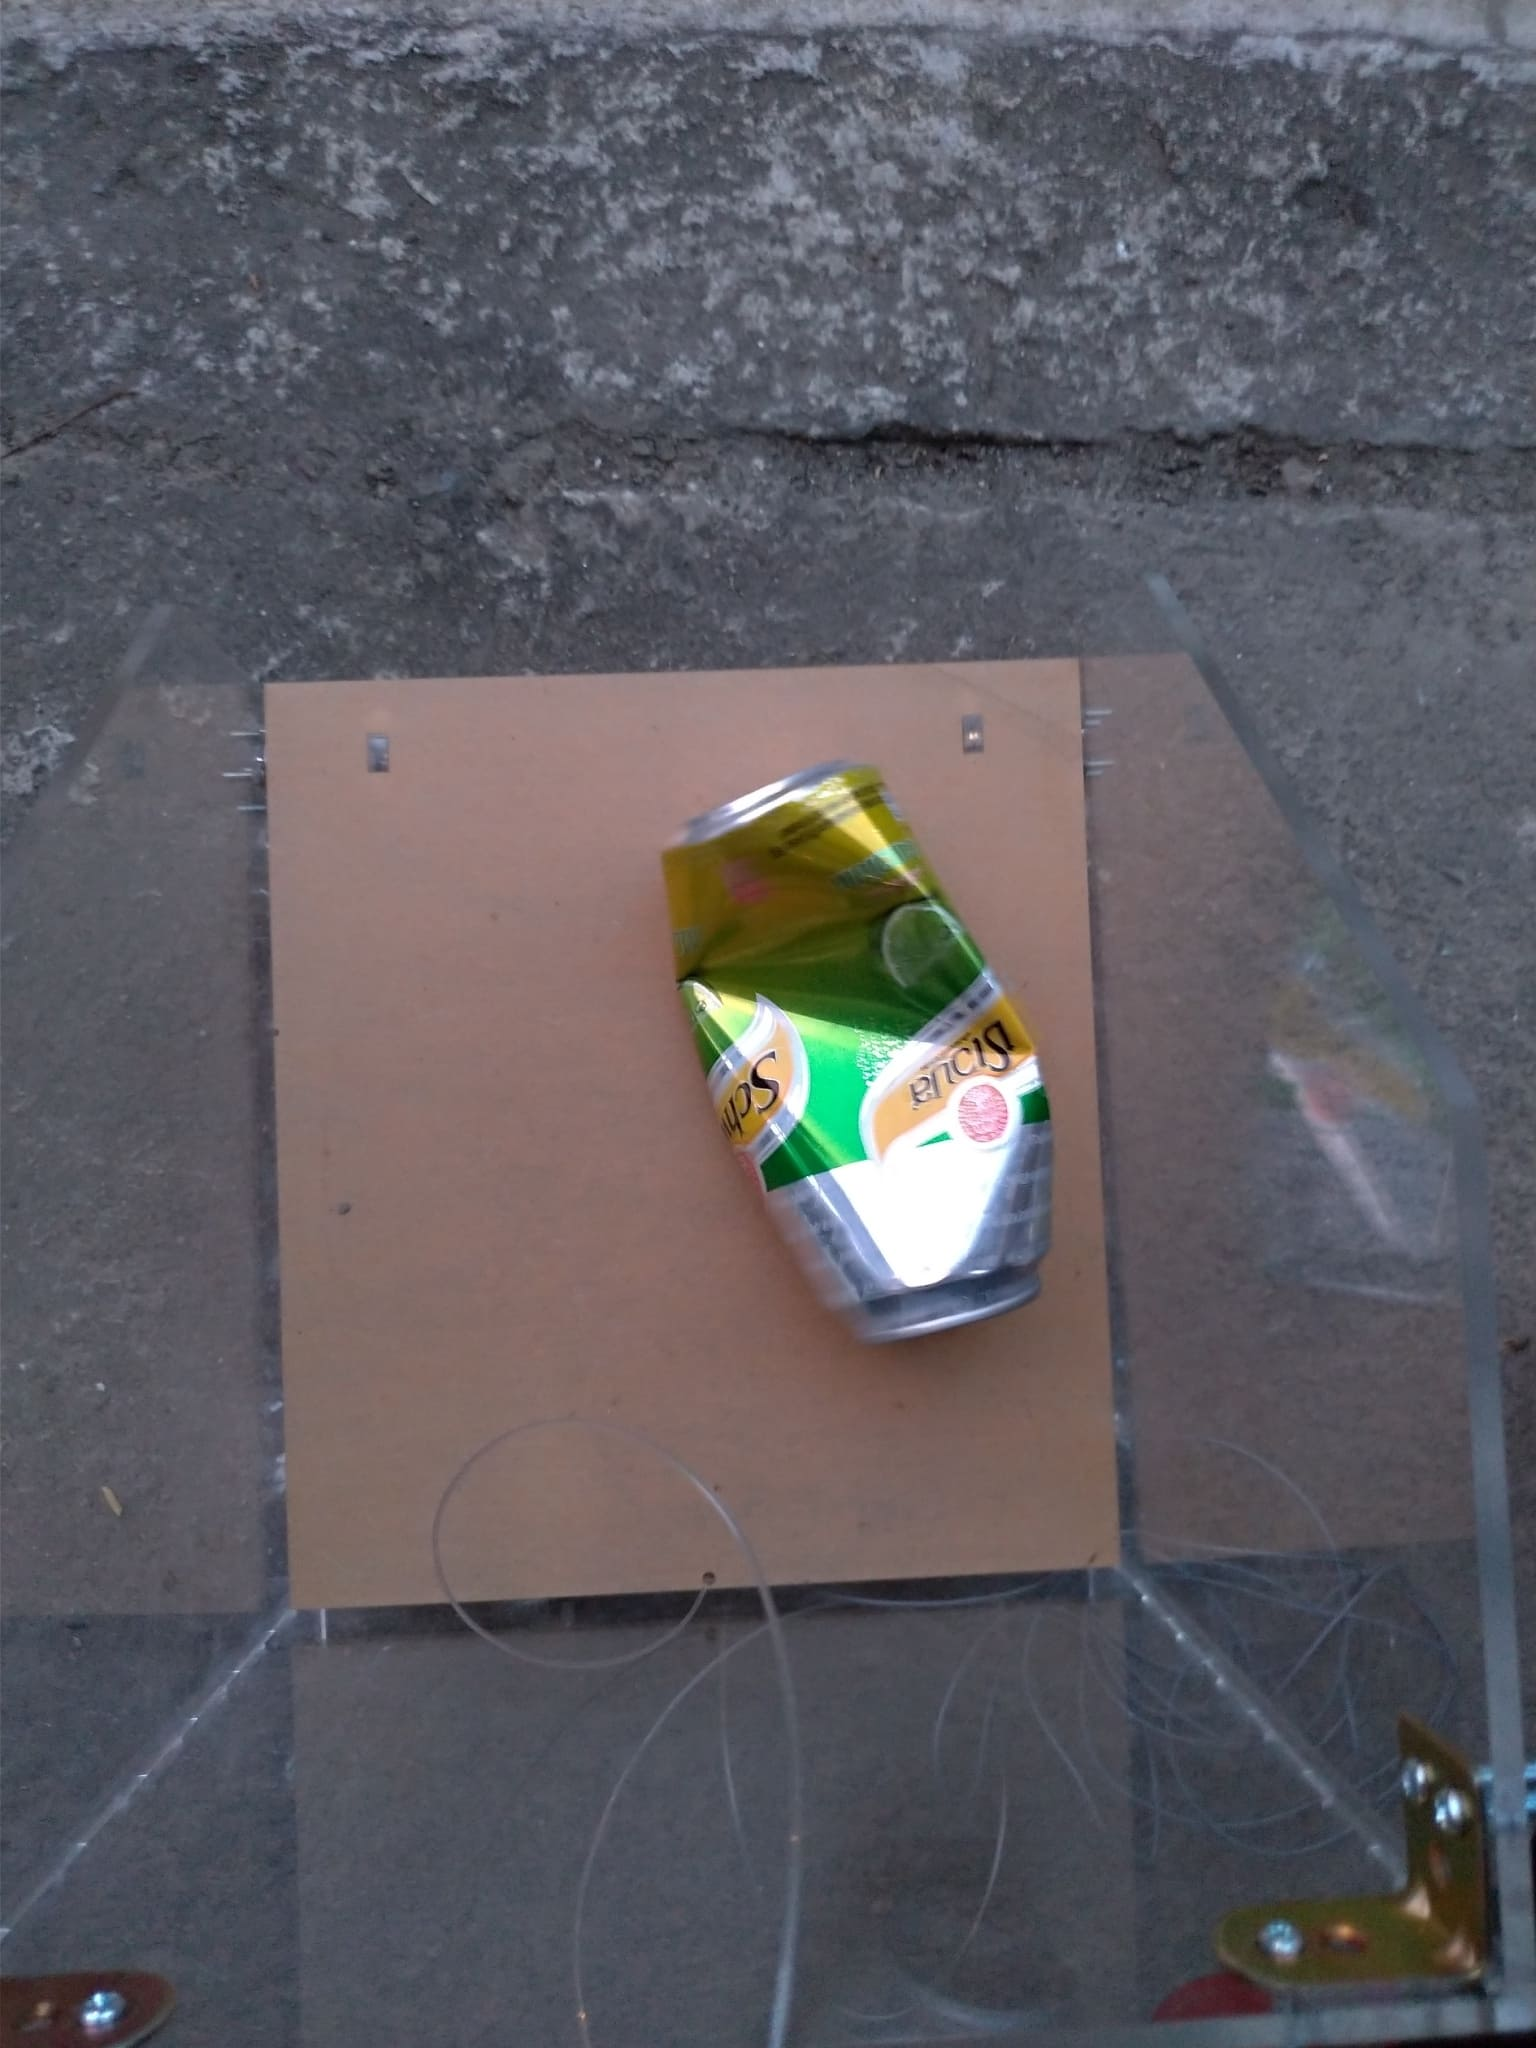AlCan: (670, 758, 1046, 1338)
